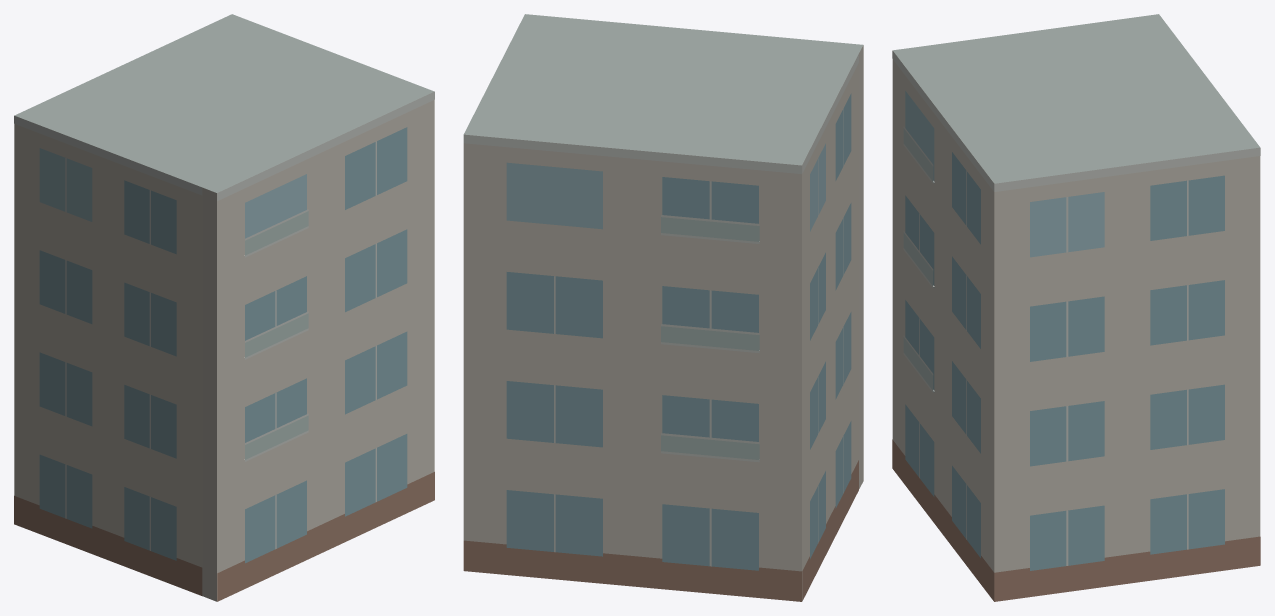
Rendered from residential-e419ee54-cd01-4715-83cc-0f1b21a62970.glb.
3 renders of one model, left to right at view 1: azimuth 30°, elevation 25°; view 2: azimuth 150°, elevation 25°; view 3: azimuth 270°, elevation 25°, orthographic. The views are drawn at different scales.
Visible parts, largest first — view 1: residential-e419ee54-cd01-4715-83cc-0f1b21a62970.tmp; view 2: residential-e419ee54-cd01-4715-83cc-0f1b21a62970.tmp; view 3: residential-e419ee54-cd01-4715-83cc-0f1b21a62970.tmp.
Part boxes in pixels (bbox=[...]): residential-e419ee54-cd01-4715-83cc-0f1b21a62970.tmp: bbox=[14, 14, 434, 601]; residential-e419ee54-cd01-4715-83cc-0f1b21a62970.tmp: bbox=[463, 14, 863, 601]; residential-e419ee54-cd01-4715-83cc-0f1b21a62970.tmp: bbox=[892, 14, 1260, 601].
Size of the model in its own units: 10.63 by 12.2 by 9.74.
